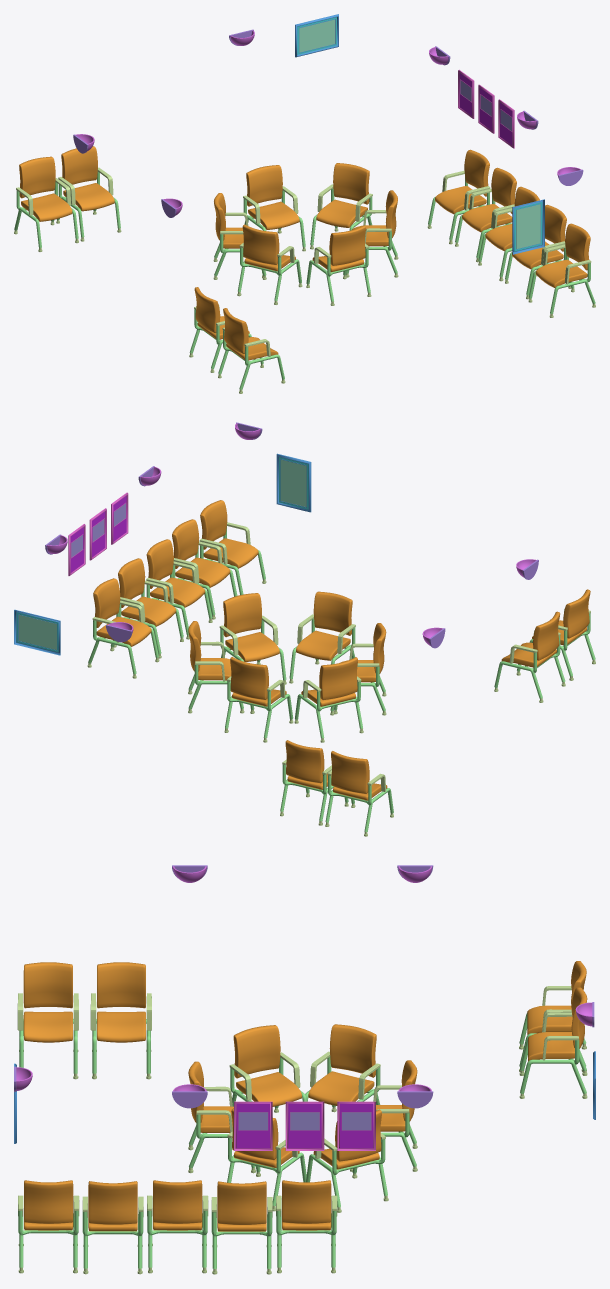
The model's file is R04_konferenzraum_distribute.fbx.
3 renders of one model, top to bottom at view 1: azimuth 30°, elevation 25°; view 2: azimuth 150°, elevation 25°; view 3: azimuth 270°, elevation 25°, orthographic. The views are drawn at different scales.
Visible parts, largest first — view 1: chair17, chair25, chair20, chair16, chair30, chair23, chair22, chair26, chair27, chair18, chair29, pictureA_02 (+8 smaller); view 2: chair23, chair24, chair21, chair20, chair17, chair28, chair30, chair27, chair29, chair26, chair16, chair19 (+8 smaller); view 3: chair19, chair18, chair22, chair21, chair29, chair27, chair30, chair26, chair28, chair16, chair25, chair23 (+8 smaller).
Part boxes in pixels (box(x1,y1,x2,y2)): chair17: box(14, 156, 78, 251); chair25: box(310, 163, 372, 249); chair20: box(243, 165, 305, 251); chair16: box(56, 146, 121, 241); chair30: box(528, 223, 595, 317); chair23: box(306, 225, 371, 305); chair22: box(237, 224, 302, 304); chair26: box(427, 149, 491, 244); chair27: box(455, 167, 516, 262); chair18: box(218, 308, 285, 393); chair29: box(505, 204, 571, 299); pictureA_02: box(512, 199, 544, 254); chair23: box(289, 591, 355, 683); chair24: box(219, 593, 286, 684); chair21: box(294, 657, 363, 742); chair20: box(224, 657, 293, 742); chair17: box(325, 751, 393, 836); chair28: box(144, 539, 212, 639); chair30: box(198, 500, 266, 594); chair27: box(113, 558, 183, 658); chair29: box(169, 519, 237, 619); chair26: box(87, 578, 159, 678); chair16: box(280, 740, 348, 825); chair19: box(494, 611, 565, 702); chair19: box(90, 962, 151, 1079); chair18: box(17, 962, 78, 1079); chair22: box(229, 1025, 306, 1112); chair21: box(305, 1024, 380, 1112); chair29: box(82, 1181, 143, 1274); chair27: box(211, 1181, 272, 1274); chair30: box(18, 1180, 79, 1273); chair26: box(276, 1180, 337, 1273); chair28: box(147, 1180, 208, 1273); chair16: box(519, 987, 587, 1098); chair25: box(306, 1109, 388, 1212); chair23: box(188, 1061, 255, 1173).
Size of the model in its own units: 511 by 190 by 552.
